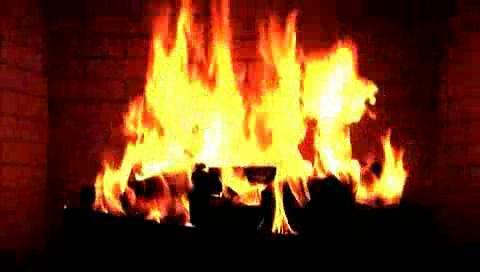fire: (124, 20, 403, 228)
